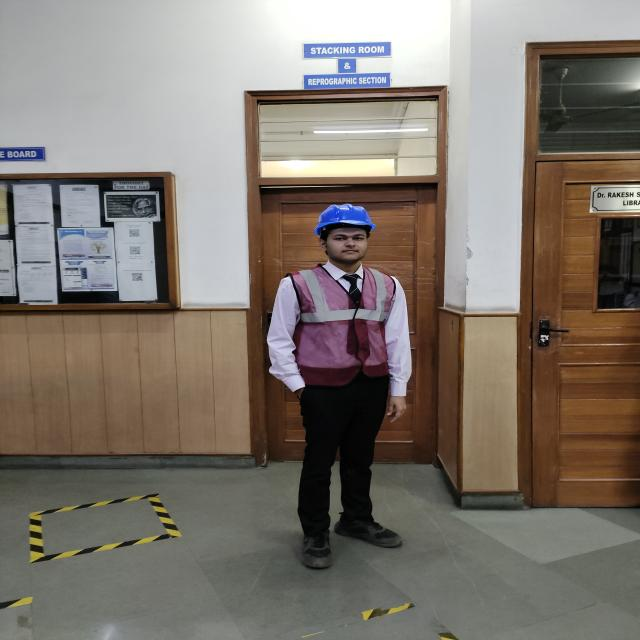safe: (267, 202, 412, 567)
